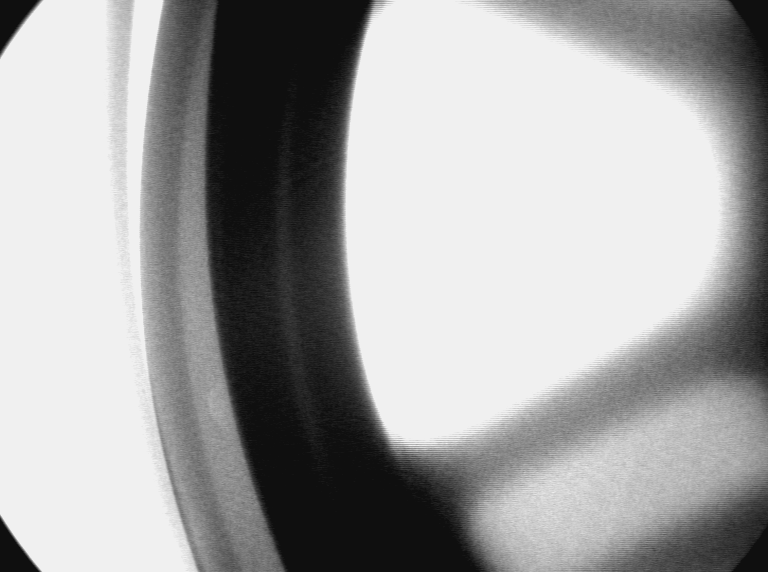defect: (210, 377, 243, 439)
